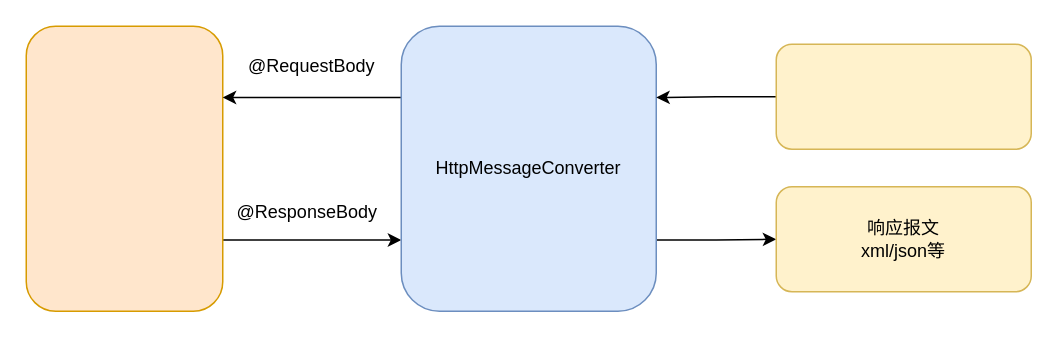
This 1058x338 diagram has some shape labels left out. The shapes that lost their labels are listed below. From the top down, each one's box as (x1, y1, x2, y2) in pixels, then its label:
(775, 43, 1031, 149): 请求报文 xml/json等
(25, 25, 223, 311): @RequestMapping 方法
